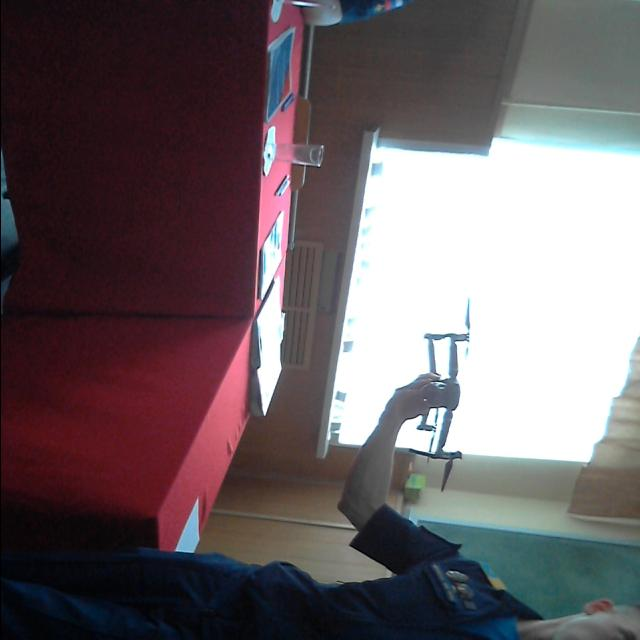drone: (400, 298, 494, 496)
